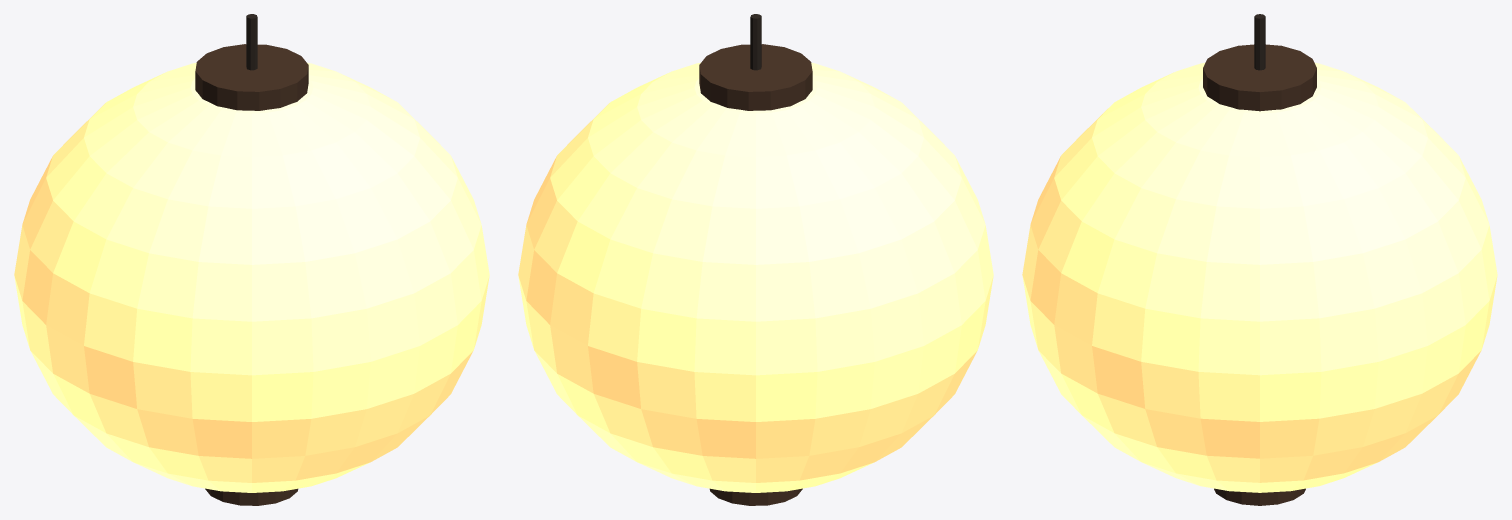
The model's file is furniture_hanging_lamp.glb.
3 views of the same model, side by side, from view 1: azimuth 30°, elevation 25°; view 2: azimuth 150°, elevation 25°; view 3: azimuth 270°, elevation 25° (orthographic).
Parts seen in each view (by area): view 1: PROP_HangingLamp; view 2: PROP_HangingLamp; view 3: PROP_HangingLamp.
Part boxes in pixels (x1,y1,x2,y2): PROP_HangingLamp: [14, 14, 489, 505]; PROP_HangingLamp: [518, 14, 993, 505]; PROP_HangingLamp: [1022, 14, 1497, 505].
Bounding box in the file's own units: 0.5 × 0.545 × 0.5.
